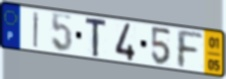4: (114, 21, 138, 62)
5: (49, 13, 75, 55), (150, 24, 172, 67)
F: (175, 28, 205, 70)
I: (32, 10, 40, 49)
T: (84, 17, 108, 59)
